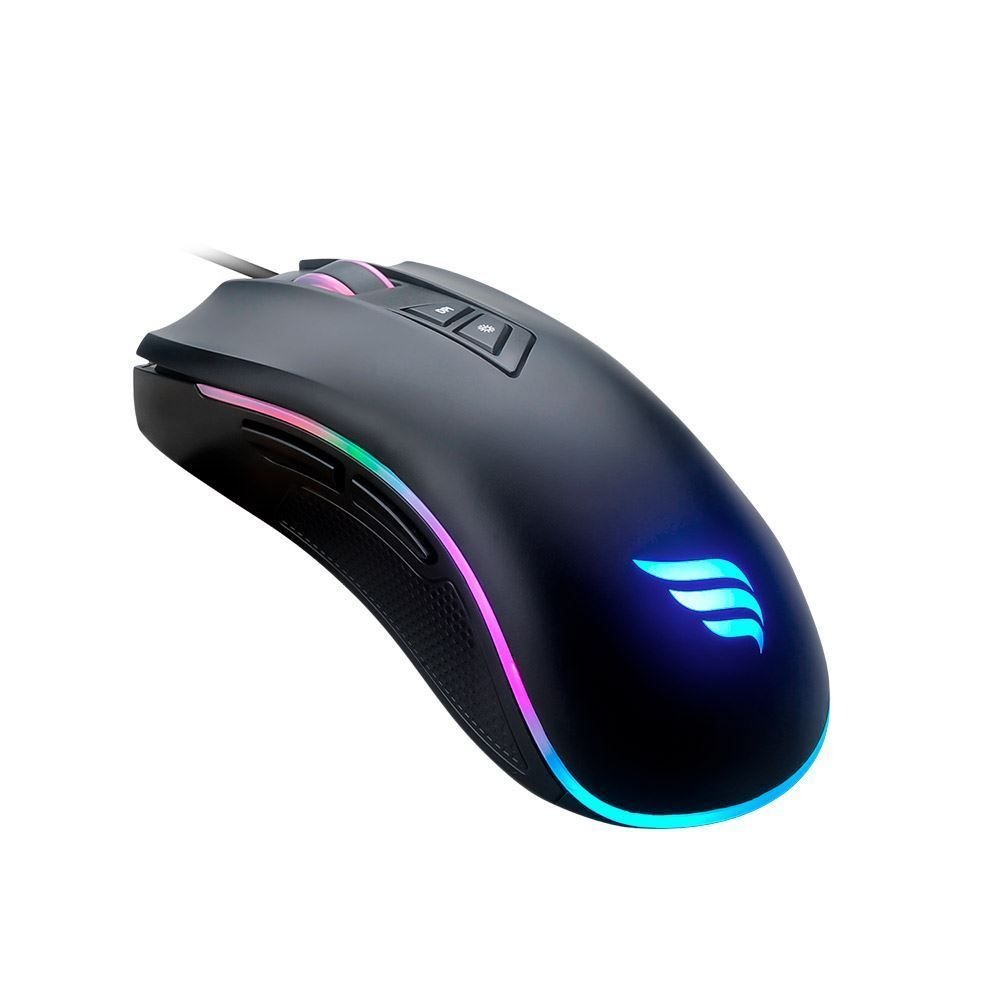mouse: (126, 254, 834, 833)
